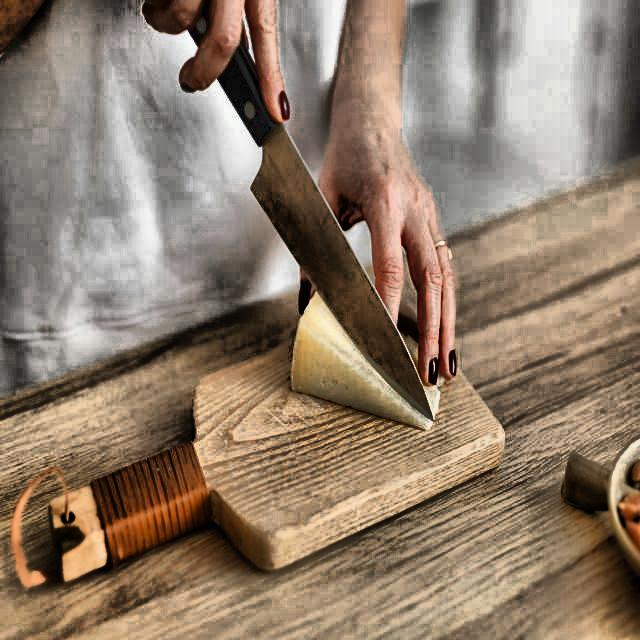knife: (182, 0, 442, 423)
